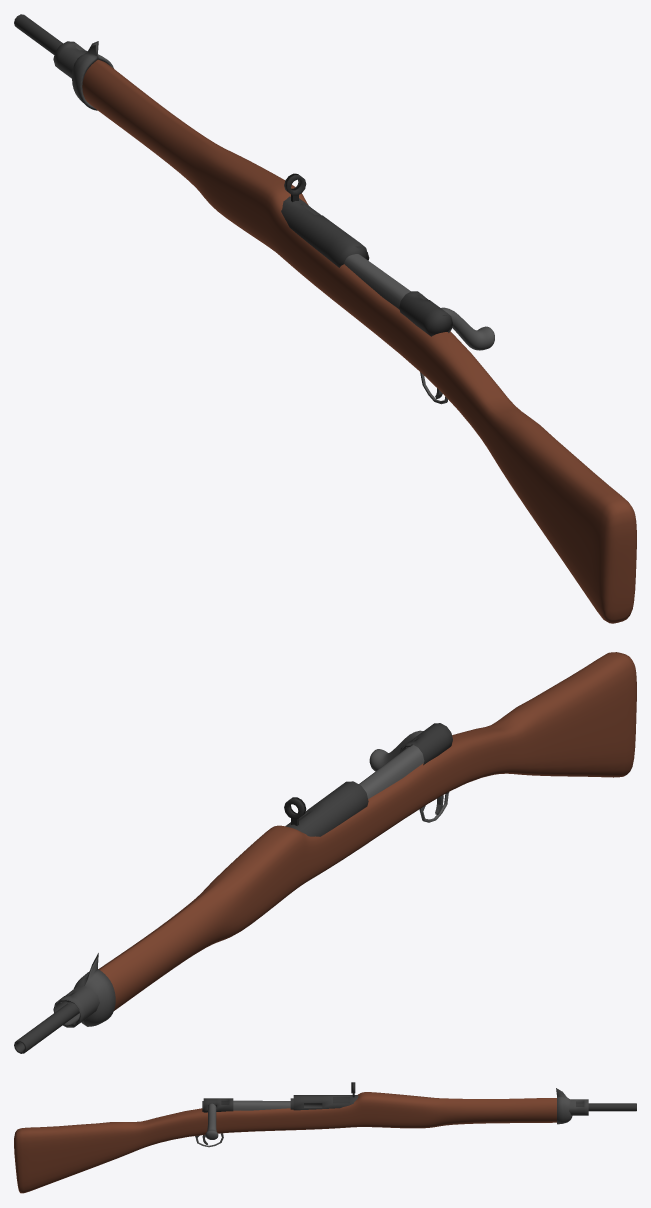
Rendered from Springfield.fbx.
3 renders of one model, top to bottom at view 1: azimuth 30°, elevation 25°; view 2: azimuth 150°, elevation 25°; view 3: azimuth 270°, elevation 25°, orthographic. The views are drawn at different scales.
Parts seen in each view (by area): view 1: Cube, Cylinder.003, Cylinder.002, Cube.003, Cube.005, Cube.001; view 2: Cube, Cylinder.003, Cube.003, Cube.001, Cylinder, Cylinder.002, Cylinder.001, Cube.005; view 3: Cube, Cylinder.003, Cube.003, Cylinder, Cube.001, Cylinder.002, Cube.005, Cylinder.001.
Part boxes in pixels (bbox=[...]): Cube: bbox=[82, 59, 636, 623]; Cylinder.003: bbox=[281, 196, 369, 267]; Cylinder.002: bbox=[399, 291, 452, 336]; Cube.003: bbox=[344, 254, 410, 309]; Cube.005: bbox=[441, 307, 494, 350]; Cube.001: bbox=[72, 41, 113, 110]; Cube: bbox=[98, 652, 636, 1010]; Cylinder.003: bbox=[285, 781, 368, 836]; Cube.003: bbox=[359, 745, 424, 798]; Cube.001: bbox=[73, 953, 115, 1026]; Cylinder: bbox=[14, 1002, 79, 1053]; Cylinder.002: bbox=[399, 723, 452, 765]; Cylinder.001: bbox=[53, 986, 99, 1027]; Cube.005: bbox=[369, 730, 423, 771]; Cube: bbox=[14, 1092, 556, 1193]; Cylinder.003: bbox=[290, 1095, 358, 1110]; Cube.003: bbox=[233, 1100, 290, 1110]; Cylinder: bbox=[588, 1103, 636, 1111]; Cube.001: bbox=[556, 1088, 572, 1124]; Cylinder.002: bbox=[202, 1098, 233, 1112]; Cube.005: bbox=[205, 1103, 218, 1139]; Cylinder.001: bbox=[569, 1099, 588, 1115].
Bounding box in the file's own units: 36.64 × 95.2 × 493.
